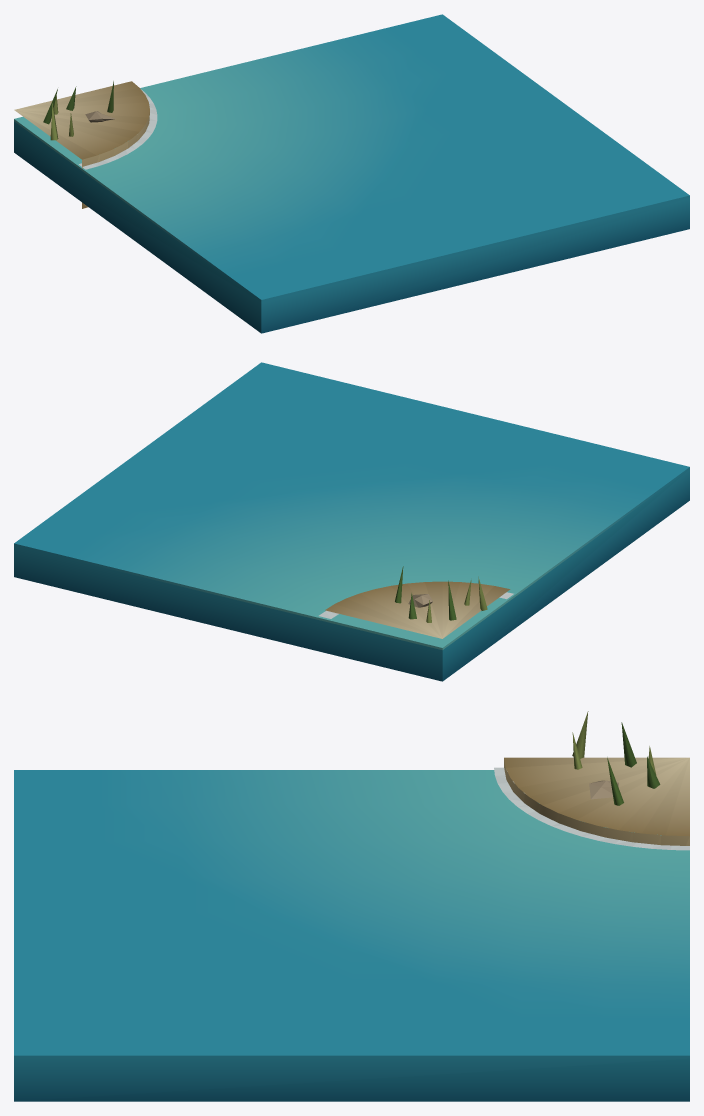
The model's file is shore-corner-out-oasis-tile.glb.
The picture shows the model from 3 angles, top to bottom: view 1: azimuth 30°, elevation 25°; view 2: azimuth 150°, elevation 25°; view 3: azimuth 270°, elevation 25°; orthographic projection. The views are drawn at different scales.
Parts seen in each view (by area): view 1: shore_corner_out_oasis_tile; view 2: shore_corner_out_oasis_tile; view 3: shore_corner_out_oasis_tile.
Part boxes in pixels (x1,y1,x2,y2): shore_corner_out_oasis_tile: (14, 14, 689, 333); shore_corner_out_oasis_tile: (14, 362, 689, 681); shore_corner_out_oasis_tile: (14, 711, 689, 1101).
Bounding box in the file's own units: 4.04 × 0.7624 × 4.
